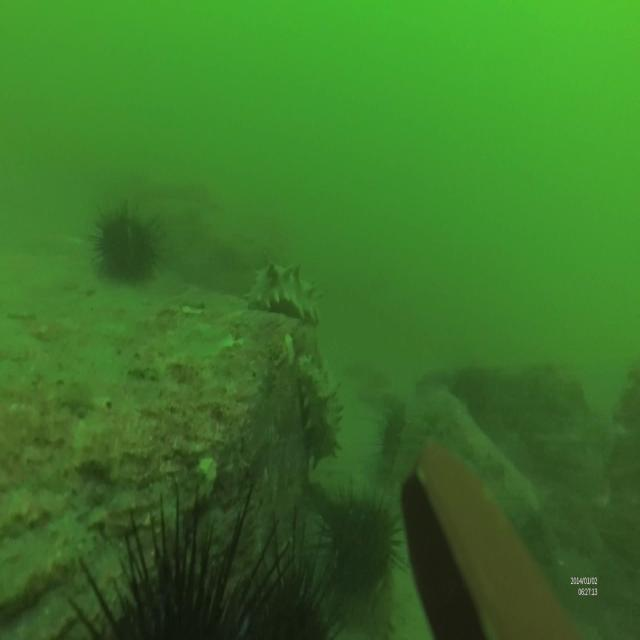echinus: (72, 481, 274, 638), (240, 526, 330, 640), (318, 478, 401, 596), (87, 198, 163, 290), (372, 404, 414, 470)
holothurian: (294, 351, 345, 466), (248, 260, 324, 328)
